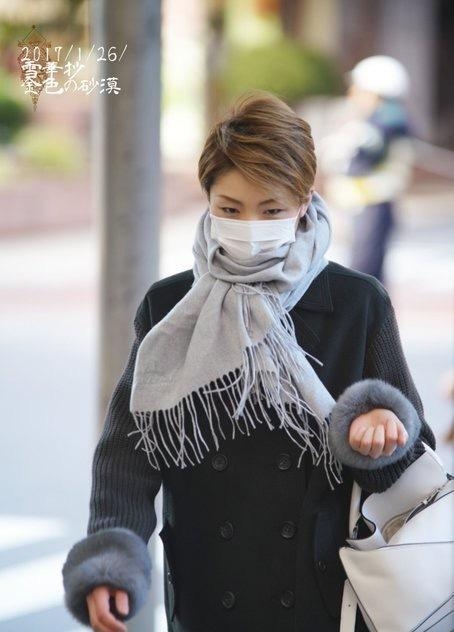OK: (208, 175, 301, 268)
